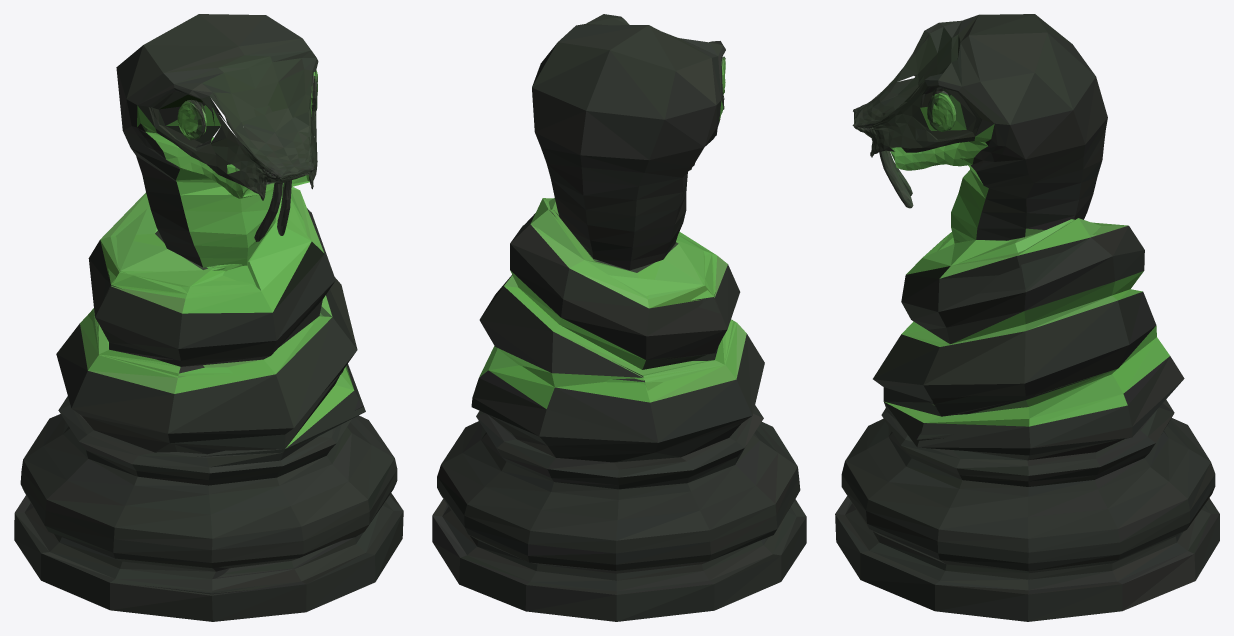
Rendered from serpent.glb.
3 views of the same model, side by side, from view 1: azimuth 30°, elevation 25°; view 2: azimuth 150°, elevation 25°; view 3: azimuth 270°, elevation 25° (orthographic). The views are drawn at different scales.
Visible parts, largest first — view 1: mesh_node; view 2: mesh_node; view 3: mesh_node.
Part boxes in pixels (x1=…): mesh_node: x1=14, y1=14, x2=403, y2=621; mesh_node: x1=432, y1=14, x2=806, y2=621; mesh_node: x1=835, y1=14, x2=1219, y2=621.
Size of the model in its own units: 0.6784 by 1 by 0.6843.
